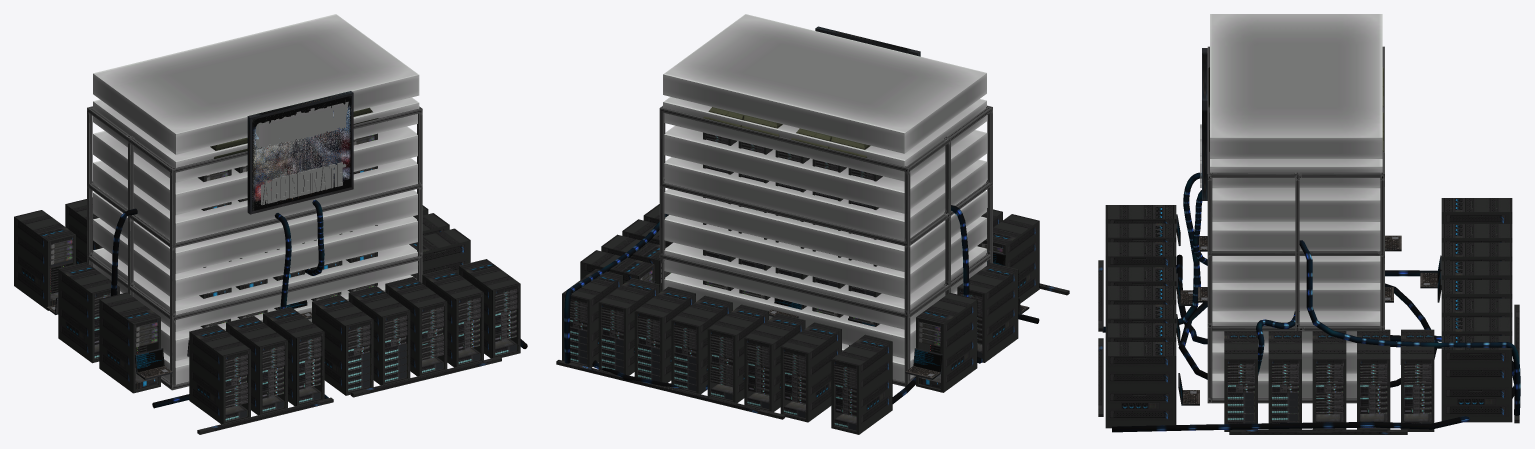
The model's file is propagandaserver - Copy.DAE.
The picture shows the model from 3 angles, left to right: view 1: azimuth 30°, elevation 25°; view 2: azimuth 150°, elevation 25°; view 3: azimuth 270°, elevation 25°; orthographic projection. The views are drawn at different scales.
Visible parts, largest first — view 1: Icon, Servers, Screen003, Screen1, Cable, Screen, ADDJ09, Subject05, Subject03, Screen010, Screen002, Screen006; view 2: Icon, Servers, Cable, Industrial_Fan_3, Industrial_Fan_2, Screen; view 3: Servers, Icon, Cable, Screen.
Boxes of the visible parts, <box> form: Icon: <box>93,14,419,384</box>; Servers: <box>14,106,520,434</box>; Screen003: <box>259,96,350,207</box>; Screen1: <box>253,101,335,210</box>; Cable: <box>110,199,527,408</box>; Screen: <box>247,91,353,214</box>; ADDJ09: <box>262,162,342,204</box>; Subject05: <box>259,104,346,145</box>; Subject03: <box>260,105,345,146</box>; Screen010: <box>252,97,350,205</box>; Screen002: <box>253,96,350,194</box>; Screen006: <box>253,110,309,209</box>; Icon: <box>663,14,986,381</box>; Servers: <box>556,105,1069,434</box>; Cable: <box>564,205,1039,403</box>; Industrial_Fan_3: <box>791,128,870,157</box>; Industrial_Fan_2: <box>703,107,782,136</box>; Screen: <box>815,26,920,56</box>; Servers: <box>1098,46,1519,434</box>; Icon: <box>1210,14,1382,398</box>; Cable: <box>1102,172,1520,432</box>; Screen: <box>1202,48,1207,200</box>.
Size of the model in its own units: 3361 by 2400 by 3417.
